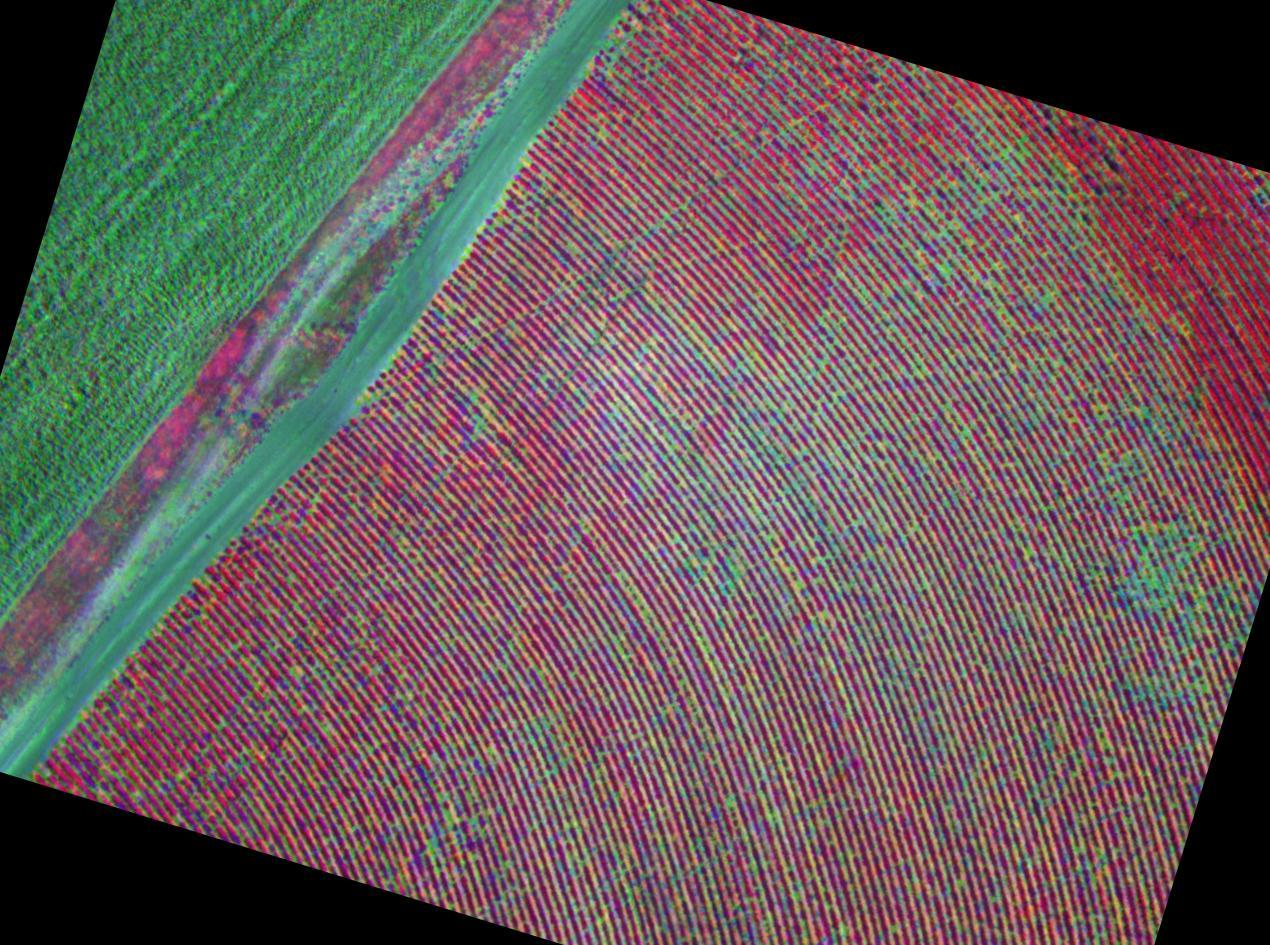dc: (1132, 528, 1180, 585), (435, 802, 466, 822), (524, 722, 549, 743), (724, 791, 741, 811)
